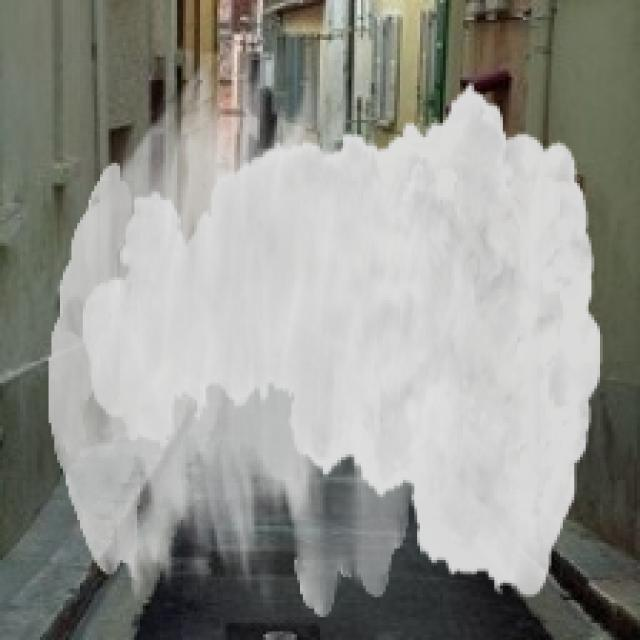smoke: (48, 60, 603, 617)
